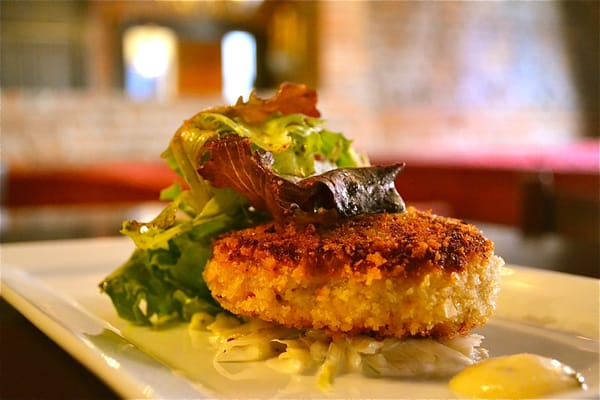soup: (202, 206, 504, 340)
